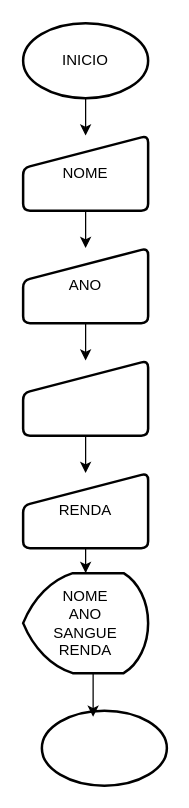
Some shapes in this 189 by 808 pixel diagram are drawn without their labels. The shapes that lost their labels are listed below. From the top down, each one's box as (x1, y1, x2, y2) in pixels, then its label:
(21, 359, 149, 436): SANGUE
(40, 709, 168, 786): FIM
